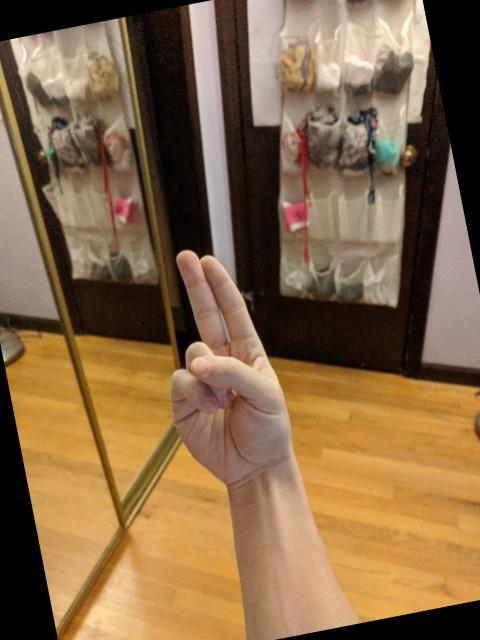U: (136, 231, 304, 498)
